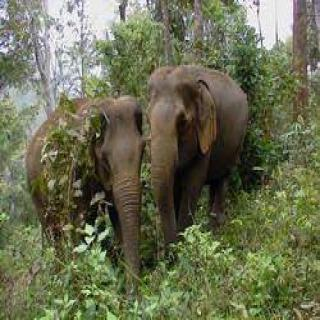Elephant: (23, 92, 147, 298), (146, 62, 252, 248)
